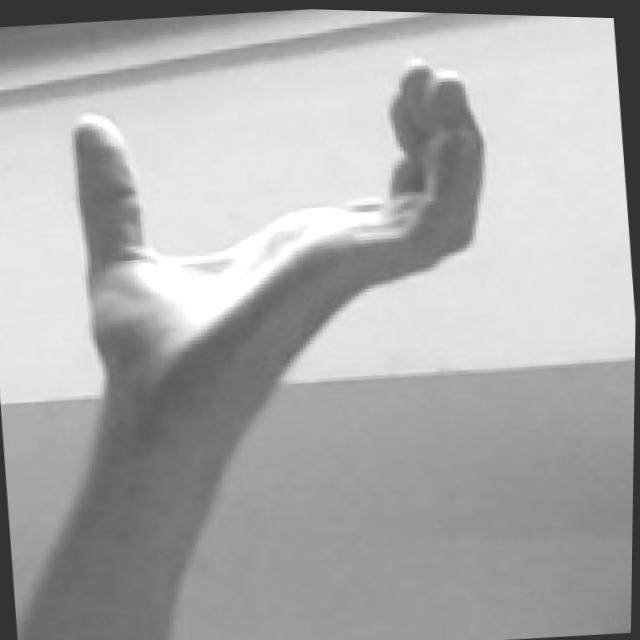space: (57, 41, 504, 408)
